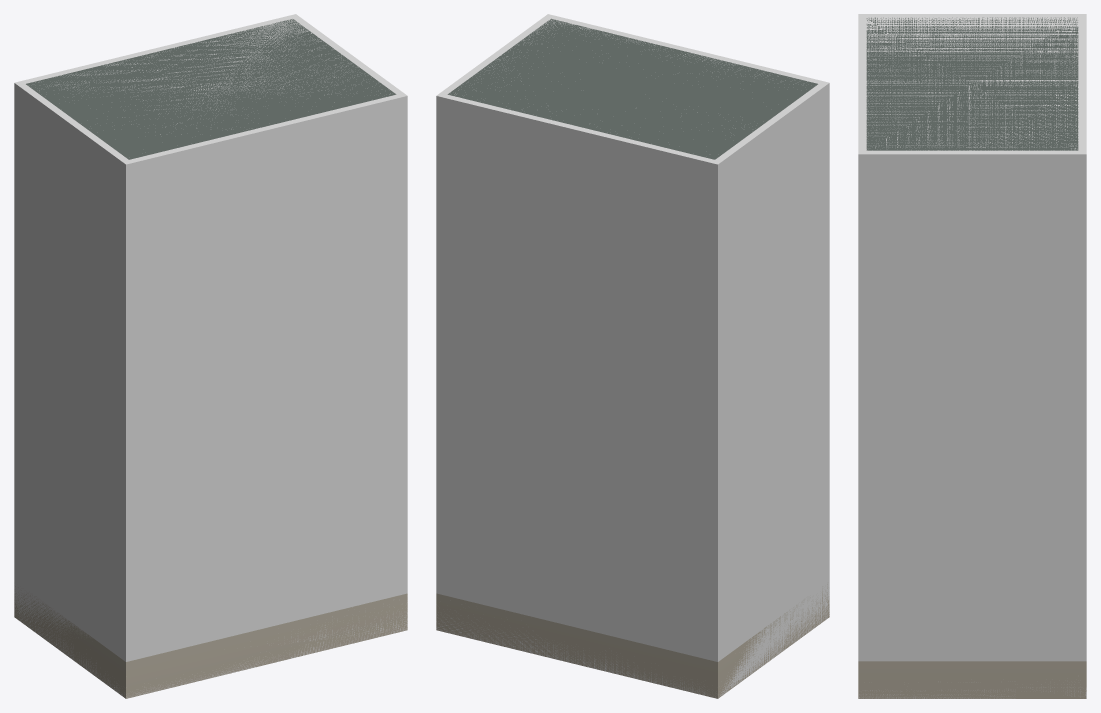
The model's file is KIT_SF_ControllerCabinet_A.glb.
The picture shows the model from 3 angles, left to right: view 1: azimuth 30°, elevation 25°; view 2: azimuth 150°, elevation 25°; view 3: azimuth 270°, elevation 25°; orthographic projection.
Visible parts, largest first — view 1: KIT_SF_ControllerCabinet_A_COL, KIT_SF_ControllerCabinet_A; view 2: KIT_SF_ControllerCabinet_A_COL, KIT_SF_ControllerCabinet_A; view 3: KIT_SF_ControllerCabinet_A_COL, KIT_SF_ControllerCabinet_A.
Boxes of the visible parts, <box> form: KIT_SF_ControllerCabinet_A_COL: <box>14,14,407,697</box>; KIT_SF_ControllerCabinet_A: <box>14,19,407,698</box>; KIT_SF_ControllerCabinet_A_COL: <box>436,14,829,698</box>; KIT_SF_ControllerCabinet_A: <box>436,18,829,698</box>; KIT_SF_ControllerCabinet_A_COL: <box>858,14,1086,698</box>; KIT_SF_ControllerCabinet_A: <box>858,17,1086,698</box>.
Size of what is drawn, in the model's own units: 0.8 by 1.45 by 0.55.
